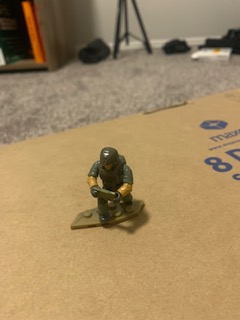soldier: (83, 145, 141, 227)
